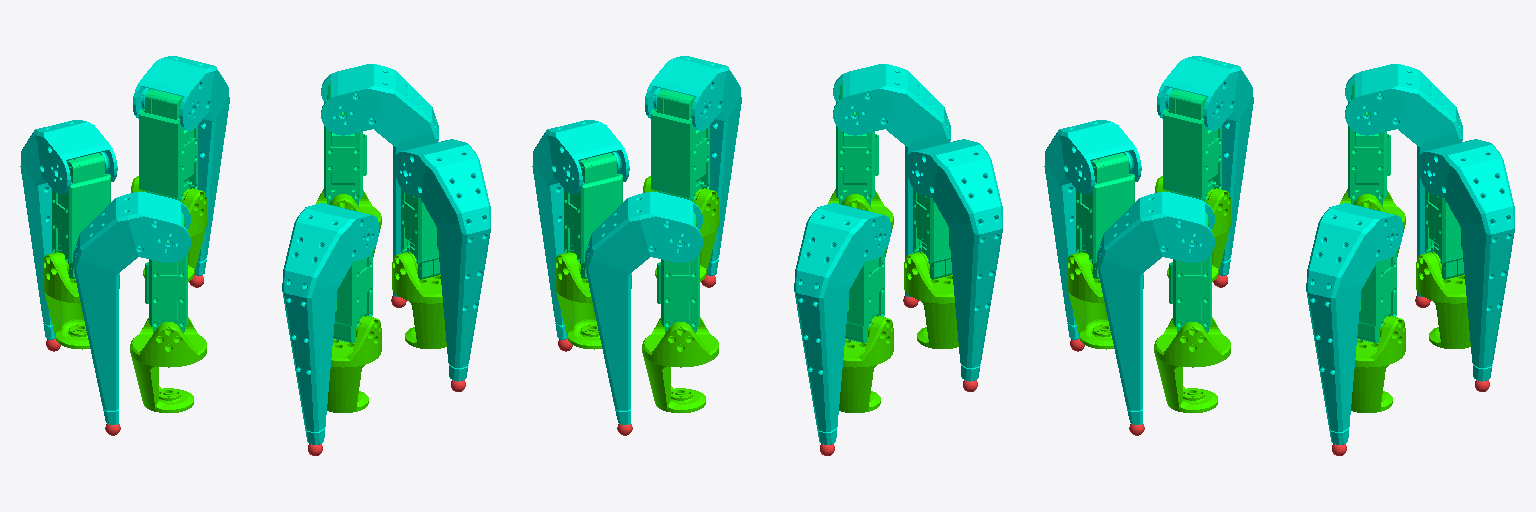
--- What the picture shows (computed from the rendered views, not written in the file) ---
3 views of the same robot in one strip: view 1: azimuth 30°, elevation 25°; view 2: azimuth 150°, elevation 25°; view 3: azimuth 270°, elevation 25° (orthographic).
Robot: hexapod — 25 links, 24 joints (18 revolute, 6 fixed); root link body; default pose: every joint at zero.
Links seen in each view (by area): view 1: t1, t2, t3, t6, t5, t4, f5, c3, f4, c1, c2, c4 (+6 smaller); view 2: t3, t4, t5, t2, t1, t6, f1, c5, f6, c3, c4, c6 (+6 smaller); view 3: t6, t5, t1, t4, t3, t2, f3, c1, f2, c5, c6, c2 (+6 smaller).
Link boxes in pixels (x1,y1,x2,y2): t1: (394,139,490,381); t2: (282,203,378,444); t3: (73,192,190,424); t6: (321,64,438,296); t5: (133,56,229,275); t4: (20,120,117,339); f5: (139,89,197,201); c3: (130,317,206,412); f4: (52,153,110,279); c1: (392,252,446,348); c2: (327,316,381,412); c4: (43,252,119,349); t3: (906,139,1002,381); t4: (794,203,890,444); t5: (585,192,702,424); t2: (833,64,950,296); t1: (645,56,741,275); t6: (532,120,629,339); f1: (651,89,709,201); c5: (642,317,718,412); f6: (564,153,622,279); c3: (904,252,958,348); c4: (839,316,893,412); c6: (555,252,631,349); t6: (1306,203,1402,444); t5: (1418,139,1514,381); t1: (1097,192,1214,424); t4: (1345,64,1462,296); t3: (1157,56,1253,275); t2: (1044,120,1141,339); f3: (1163,89,1221,201); c1: (1154,317,1230,412); f2: (1076,153,1134,279); c5: (1416,252,1470,348); c6: (1351,316,1405,412); c2: (1067,252,1143,349).
Bounding box of the posed robot: 0.376 × 0.3678 × 0.2005 m (x, y, z).
18 mesh visuals loaded from 19 distinct referenced files (18 binary STL); not drawn: 1 (reference not matched to a file when rendering).

The robot description file, URDF, robot "hexapod":
<?xml version="1.0"?>
<robot
  name="hexapod">
  <link
    name="body">
    <inertial>
      <origin
        xyz="-0.000964757398601047 -0.000474507891316197 0.0250917541538913"
        rpy="0 0 0" />
      <mass
        value="0.837264376559784" />
      <inertia
        ixx="0.000684705045228122"
        ixy="2.41203148829684E-06"
        ixz="1.37182293143103E-06"
        iyy="0.000373213482608926"
        iyz="2.86965126573547E-08"
        izz="0.000953816417305708" />
    </inertial>
    <visual>
      <origin
        xyz="0 0 0"
        rpy="0 0 0" />
      <geometry>
        <mesh
          filename="../meshes/body.STL" />
      </geometry>
      <material
        name="">
        <color
          rgba="1 0.984 0 1" />
      </material>
    </visual>
    <collision>
      <origin
        xyz="0 0 0"
        rpy="0 0 0" />
      <geometry>
        <mesh
          filename="../meshes/body_scad.stl" scale="0.001 0.001 0.001"/>
      </geometry>
    </collision>
  </link>
  <link
    name="c1">
    <inertial>
      <origin
        xyz="0.00013691 -0.0055867 0.03976"
        rpy="0 0 0" />
      <mass
        value="0.060858" />
      <inertia
        ixx="3.2009E-05"
        ixy="-5.5108E-08"
        ixz="1.3355E-08"
        iyy="3.647E-05"
        iyz="-3.6867E-06"
        izz="2.5652E-05" />
    </inertial>
    <visual>
      <origin
        xyz="0 0 0"
        rpy="0 0 0" />
      <geometry>
        <mesh
          filename="../meshes/c1.STL" />
      </geometry>
      <material
        name="">
        <color
          rgba="0.3 1 0 1" />
      </material>
    </visual>
    <collision>
      <origin
        xyz="0 0 0"
        rpy="0 0 0" />
      <geometry>
        <mesh
          filename="../meshes/c1_scad.stl" scale="0.001 0.001 0.001"/>
      </geometry>
    </collision>
  </link>
  <joint
    name="c1"
    type="revolute">
    <origin
      xyz="0.11804 -0.068148 -0.0036"
      rpy="0 0 0" />
    <parent
      link="body" />
    <child
      link="c1" />
    <axis
      xyz="0 0 1" />
    <limit
      lower="0"
      upper="2.0944"
      effort="2.9419"
      velocity="4.71" />
  </joint>
  <link
    name="f1">
    <inertial>
      <origin
        xyz="-0.039988 7.741E-05 -0.01669"
        rpy="0 0 0" />
      <mass
        value="0.11714" />
      <inertia
        ixx="1.3116E-05"
        ixy="2.371E-08"
        ixz="3.7548E-10"
        iyy="2.465E-05"
        iyz="-2.0838E-09"
        izz="2.7051E-05" />
    </inertial>
    <visual>
      <origin
        xyz="0 0 0"
        rpy="0 0 0" />
      <geometry>
        <mesh
          filename="../meshes/f1.STL" />
      </geometry>
      <material
        name="">
        <color
          rgba="0 1 0.58 1" />
      </material>
    </visual>
    <collision>
      <origin
        xyz="0 0 0"
        rpy="0 0 0" />
      <geometry>
        <mesh
          filename="../meshes/f1_scad.stl" scale="0.001 0.001 0.001"/>
      </geometry>
    </collision>
  </link>
  <joint
    name="f1"
    type="revolute">
    <origin
      xyz="0.0169 0 0.0679"
      rpy="0 1.5708 0" />
    <parent
      link="c1" />
    <child
      link="f1" />
    <axis
      xyz="0 0 1" />
    <limit
      lower="-0.7853"
      upper="1.5708"
      effort="2.9419"
      velocity="4.71" />
  </joint>
  <link
    name="t1">
    <inertial>
      <origin
        xyz="0.033566 0.041626 -0.022609"
        rpy="0 0 0" />
      <mass
        value="0.11714" />
      <inertia
        ixx="5.057E-05"
        ixy="-4.8612E-05"
        ixz="8.9984E-08"
        iyy="0.00026925"
        iyz="2.3327E-08"
        izz="0.0003066" />
    </inertial>
    <visual>
      <origin
        xyz="0 0 0"
        rpy="0 0 0" />
      <geometry>
        <mesh
          filename="../meshes/t1.STL" />
      </geometry>
      <material
        name="">
        <color
          rgba="0 1 0.9 1" />
      </material>
    </visual>
    <collision>
      <origin
        xyz="0 0 0"
        rpy="0 0 0" />
      <geometry>
        <mesh
          filename="../meshes/t1_scad.stl" scale="0.001 0.001 0.001"/>
      </geometry>
    </collision>
  </link>
  <joint
    name="t1"
    type="revolute">
    <origin
      xyz="-0.08 0 -0.0395"
      rpy="3.1416 0 0" />
    <parent
      link="f1" />
    <child
      link="t1" />
    <axis
      xyz="0 0 1" />
    <limit
      lower="0"
      upper="2.0944"
      effort="2.9419"
      velocity="4.71" />
  </joint>
  <link
    name="e1">
    <visual>
      <origin
        xyz="0.170 0.0435 -0.0225"
        rpy="0 0 0" />
      <geometry>
        <sphere radius="0.006"/>
      </geometry>
      <material
        name="">
        <color
          rgba="1 0.3 0.3 1" />
      </material>
    </visual>
    <collision>
      <origin
        xyz="0.170 0.0435 -0.0225"
        rpy="0 0 0" />
      <geometry>
        <sphere radius="0.006"/>
      </geometry>
      <material
        name="">
        <color
          rgba="1 0.3 0.3 1" />
      </material>
    </collision>
  </link>
  <joint
    name="e1"
    type="fixed">
    <origin
      xyz="0 0 0"
      rpy="0 0 0" />
    <parent
      link="t1" />
    <child
      link="e1" />
  </joint>
  <link
    name="c2">
    <inertial>
      <origin
        xyz="-0.0047697 -0.0029119 0.03976"
        rpy="0 0 0" />
      <mass
        value="0.060858" />
      <inertia
        ixx="3.5307E-05"
        ixy="1.9593E-06"
        ixz="-3.1861E-06"
        iyy="3.3172E-05"
        iyz="-1.8549E-06"
        izz="2.5652E-05" />
    </inertial>
    <visual>
      <origin
        xyz="0 0 0"
        rpy="0 0 0" />
      <geometry>
        <mesh
          filename="../meshes/c2.STL" />
      </geometry>
      <material
        name="">
        <color
          rgba="0.3 1 0 1" />
      </material>
    </visual>
    <collision>
      <origin
        xyz="0 0 0"
        rpy="0 0 0" />
      <geometry>
        <mesh
          filename="../meshes/c2_scad.stl" scale="0.001 0.001 0.001"/>
      </geometry>
    </collision>
  </link>
  <joint
    name="c2"
    type="revolute">
    <origin
      xyz="0 -0.1363 -0.0036"
      rpy="0 0 0" />
    <parent
      link="body" />
    <child
      link="c2" />
    <axis
      xyz="0 0 1" />
    <limit
      lower="0"
      upper="2.0944"
      effort="2.9419"
      velocity="4.71" />
  </joint>
  <link
    name="f2">
    <inertial>
      <origin
        xyz="7.741E-05 0.039988 -0.01669"
        rpy="0 0 0" />
      <mass
        value="0.11714" />
      <inertia
        ixx="2.465E-05"
        ixy="-2.371E-08"
        ixz="-2.0842E-09"
        iyy="1.3116E-05"
        iyz="-3.7547E-10"
        izz="2.7051E-05" />
    </inertial>
    <visual>
      <origin
        xyz="0 0 0"
        rpy="0 0 0" />
      <geometry>
        <mesh
          filename="../meshes/f2.STL" />
      </geometry>
      <material
        name="">
        <color
          rgba="0 1 0.58 1" />
      </material>
    </visual>
    <collision>
      <origin
        xyz="0 0 0"
        rpy="0 0 0" />
      <geometry>
        <mesh
          filename="../meshes/f2_scad.stl" scale="0.001 0.001 0.001"/>
      </geometry>
    </collision>
  </link>
  <joint
    name="f2"
    type="revolute">
    <origin
      xyz="0.00845 -0.014636 0.0679"
      rpy="1.5708 0 0.5236" />
    <parent
      link="c2" />
    <child
      link="f2" />
    <axis
      xyz="0 0 1" />
    <limit
      lower="-0.7853"
      upper="1.5708"
      effort="2.9419"
      velocity="4.71" />
  </joint>
  <link
    name="t2">
    <inertial>
      <origin
        xyz="-0.041626 0.033566 -0.022609"
        rpy="0 0 0" />
      <mass
        value="0.11714" />
      <inertia
        ixx="0.00026925"
        ixy="4.8613E-05"
        ixz="-2.326E-08"
        iyy="5.057E-05"
        iyz="8.9817E-08"
        izz="0.0003066" />
    </inertial>
    <visual>
      <origin
        xyz="0 0 0"
        rpy="0 0 0" />
      <geometry>
        <mesh
          filename="../meshes/t2.STL" />
      </geometry>
      <material
        name="">
        <color
          rgba="0 1 0.9 1" />
      </material>
    </visual>
    <collision>
      <origin
        xyz="0 0 0"
        rpy="0 0 0" />
      <geometry>
        <mesh
          filename="../meshes/t2_scad.stl" scale="0.001 0.001 0.001"/>
      </geometry>
    </collision>
  </link>
  <joint
    name="t2"
    type="revolute">
    <origin
      xyz="0 0.08 -0.0395"
      rpy="-3.1416 0 0" />
    <parent
      link="f2" />
    <child
      link="t2" />
    <axis
      xyz="0 0 1" />
    <limit
      lower="0"
      upper="2.0944"
      effort="2.9419"
      velocity="4.71" />
  </joint>
  <link
    name="e2">
    <visual>
      <origin
        xyz="-0.0435 0.170  -0.0225"
        rpy="0 0 0" />
      <geometry>
        <sphere radius="0.006"/>
      </geometry>
      <material
        name="">
        <color
          rgba="1 0.3 0.3 1" />
      </material>
    </visual>
    <collision>
      <origin
        xyz="-0.0435 0.170  -0.0225"
        rpy="0 0 0" />
      <geometry>
        <sphere radius="0.006"/>
      </geometry>
      <material
        name="">
        <color
          rgba="1 0.5 0.5 1" />
      </material>
    </collision>
  </link>
  <joint
    name="e2"
    type="fixed">
    <origin
      xyz="0 0 0"
      rpy="0 0 0" />
    <parent
      link="t2" />
    <child
      link="e2" />
  </joint>
  <link
    name="c3">
    <inertial>
      <origin
        xyz="-0.0049067 0.0026748 0.03976"
        rpy="0 0 0" />
      <mass
        value="0.060858" />
      <inertia
        ixx="3.5402E-05"
        ixy="-1.9042E-06"
        ixz="-3.1995E-06"
        iyy="3.3076E-05"
        iyz="1.8318E-06"
        izz="2.5652E-05" />
    </inertial>
    <visual>
      <origin
        xyz="0 0 0"
        rpy="0 0 0" />
      <geometry>
        <mesh
          filename="../meshes/c3.STL" />
      </geometry>
      <material
        name="">
        <color
          rgba="0.3 1 0 1" />
      </material>
    </visual>
    <collision>
      <origin
        xyz="0 0 0"
        rpy="0 0 0" />
      <geometry>
        <mesh
          filename="../meshes/c3_scad.stl" scale="0.001 0.001 0.001"/>
      </geometry>
    </collision>
  </link>
  <joint
    name="c3"
    type="revolute">
    <origin
      xyz="-0.11804 -0.068148 -0.0036"
      rpy="0 0 0" />
    <parent
      link="body" />
    <child
      link="c3" />
    <axis
      xyz="0 0 1" />
    <limit
      lower="0"
      upper="2.0944"
      effort="2.9419"
      velocity="4.71" />
  </joint>
  <link
    name="f3">
    <inertial>
      <origin
        xyz="7.7409E-05 0.039988 -0.01669"
        rpy="0 0 0" />
      <mass
        value="0.11714" />
      <inertia
        ixx="2.465E-05"
        ixy="-2.371E-08"
        ixz="-2.084E-09"
        iyy="1.3116E-05"
        iyz="-3.7547E-10"
        izz="2.7051E-05" />
    </inertial>
    <visual>
      <origin
        xyz="0 0 0"
        rpy="0 0 0" />
      <geometry>
        <mesh
          filename="../meshes/f3.STL" />
      </geometry>
      <material
        name="">
        <color
          rgba="0 1 0.58 1" />
      </material>
    </visual>
    <collision>
      <origin
        xyz="0 0 0"
        rpy="0 0 0" />
      <geometry>
        <mesh
          filename="../meshes/f3_scad.stl" scale="0.001 0.001 0.001"/>
      </geometry>
    </collision>
  </link>
  <joint
    name="f3"
    type="revolute">
    <origin
      xyz="-0.00845 -0.014636 0.0679"
      rpy="1.5708 0 -0.5236" />
    <parent
      link="c3" />
    <child
      link="f3" />
    <axis
      xyz="0 0 1" />
    <limit
      lower="-0.7853"
      upper="1.5708"
      effort="2.9419"
      velocity="4.71" />
  </joint>
  <link
    name="t3">
    <inertial>
      <origin
        xyz="-0.041626 0.033566 -0.022609"
        rpy="0 0 0" />
      <mass
        value="0.11714" />
      <inertia
        ixx="0.00026925"
        ixy="4.8613E-05"
        ixz="-2.3256E-08"
        iyy="5.057E-05"
        iyz="8.9815E-08"
        izz="0.0003066" />
    </inertial>
    <visual>
      <origin
        xyz="0 0 0"
        rpy="0 0 0" />
      <geometry>
        <mesh
          filename="../meshes/t3.STL" />
      </geometry>
      <material
        name="">
        <color
          rgba="0 1 0.9 1" />
      </material>
    </visual>
    <collision>
      <origin
        xyz="0 0 0"
        rpy="0 0 0" />
      <geometry>
        <mesh
          filename="../meshes/t3_scad.stl" scale="0.001 0.001 0.001"/>
      </geometry>
    </collision>
  </link>
  <joint
    name="t3"
    type="revolute">
    <origin
      xyz="0 0.08 -0.0395"
      rpy="-3.1416 0 0" />
    <parent
      link="f3" />
    <child
      link="t3" />
    <axis
      xyz="0 0 1" />
    <limit
      lower="0"
      upper="2.0944"
      effort="2.9419"
      velocity="4.71" />
  </joint>
  <link
    name="e3">
    <visual>
      <origin
        xyz="-0.0435 0.170  -0.0225"
        rpy="0 0 0" />
      <geometry>
        <sphere radius="0.006"/>
      </geometry>
      <material
        name="">
        <color
          rgba="1 0.3 0.3 1" />
      </material>
    </visual>
    <collision>
      <origin
        xyz="-0.0435 0.170  -0.0225"
        rpy="0 0 0" />
      <geometry>
        <sphere radius="0.006"/>
      </geometry>
      <material
        name="">
        <color
          rgba="1 0.5 0.5 1" />
      </material>
    </collision>
  </link>
  <joint
    name="e3"
    type="fixed">
    <origin
      xyz="0 0 0"
      rpy="0 0 0" />
    <parent
      link="t3" />
    <child
      link="e3" />
  </joint>
  <link
    name="c4">
    <inertial>
      <origin
        xyz="-0.00013691 0.0055867 0.03976"
        rpy="0 0 0" />
      <mass
        value="0.060858" />
      <inertia
        ixx="3.2009E-05"
        ixy="-5.5108E-08"
        ixz="-1.3355E-08"
        iyy="3.647E-05"
        iyz="3.6867E-06"
        izz="2.5652E-05" />
    </inertial>
    <visual>
      <origin
        xyz="0 0 0"
        rpy="0 0 0" />
      <geometry>
        <mesh
          filename="../meshes/c4.STL" />
      </geometry>
      <material
        name="">
        <color
          rgba="0.3 1 0 1" />
      </material>
    </visual>
    <collision>
      <origin
        xyz="0 0 0"
        rpy="0 0 0" />
      <geometry>
        <mesh
          filename="../meshes/c4_scad.stl" scale="0.001 0.001 0.001"/>
      </geometry>
    </collision>
  </link>
  <joint
    name="c4"
    type="revolute">
    <origin
      xyz="-0.11804 0.068148 -0.0036"
      rpy="0 0 0" />
    <parent
      link="body" />
    <child
      link="c4" />
    <axis
      xyz="0 0 1" />
    <limit
      lower="0"
      upper="2.0944"
      effort="2.9419"
      velocity="4.71" />
  </joint>
  <link
    name="f4">
    <inertial>
      <origin
        xyz="0.039988 -7.741E-05 -0.01669"
        rpy="0 0 0" />
      <mass
        value="0.11714" />
      <inertia
        ixx="1.3116E-05"
        ixy="2.371E-08"
        ixz="-3.7548E-10"
        iyy="2.465E-05"
        iyz="2.0838E-09"
        izz="2.7051E-05" />
    </inertial>
    <visual>
      <origin
        xyz="0 0 0"
        rpy="0 0 0" />
      <geometry>
        <mesh
          filename="../meshes/f4.STL" />
      </geometry>
      <material
        name="">
        <color
          rgba="0 1 0.58 1" />
      </material>
    </visual>
    <collision>
      <origin
        xyz="0 0 0"
        rpy="0 0 0" />
      <geometry>
        <mesh
          filename="../meshes/f4_scad.stl" scale="0.001 0.001 0.001"/>
      </geometry>
    </collision>
  </link>
  <joint
    name="f4"
    type="revolute">
    <origin
      xyz="-0.0169 0 0.0679"
      rpy="0 -1.5708 0" />
    <parent
      link="c4" />
    <child
      link="f4" />
    <axis
      xyz="0 0 1" />
    <limit
      lower="-0.7853"
      upper="1.5708"
      effort="2.9419"
      velocity="4.71" />
  </joint>
  <link
    name="t4">
    <inertial>
      <origin
        xyz="0.033566 0.041626 -0.022609"
        rpy="0 0 0" />
      <mass
        value="0.11714" />
      <inertia
        ixx="5.057E-05"
        ixy="-4.8612E-05"
        ixz="8.9984E-08"
        iyy="0.00026925"
        iyz="2.3327E-08"
        izz="0.0003066" />
    </inertial>
    <visual>
      <origin
        xyz="0 0 0"
        rpy="0 0 0" />
      <geometry>
        <mesh
          filename="../meshes/t4.STL" />
      </geometry>
      <material
        name="">
        <color
          rgba="0 1 0.9 1" />
      </material>
    </visual>
    <collision>
      <origin
        xyz="0 0 0"
        rpy="0 0 0" />
      <geometry>
        <mesh
          filename="../meshes/t4_scad.stl" scale="0.001 0.001 0.001"/>
      </geometry>
    </collision>
  </link>
  <joint
    name="t4"
    type="revolute">
    <origin
      xyz="0.08 0 -0.0395"
      rpy="3.1416 0 -3.1416" />
    <parent
      link="f4" />
    <child
      link="t4" />
    <axis
      xyz="0 0 1" />
    <limit
      lower="0"
      upper="2.0944"
      effort="2.9419"
      velocity="4.71" />
  </joint>
  <link
    name="e4">
    <visual>
      <origin
        xyz="0.170 0.0435 -0.0225"
        rpy="0 0 0" />
      <geometry>
        <sphere radius="0.006"/>
      </geometry>
      <material
        name="">
        <color
          rgba="1 0.3 0.3 1" />
      </material>
    </visual>
    <collision>
      <origin
        xyz="0.170 0.0435 -0.0225"
        rpy="0 0 0" />
      <geometry>
        <sphere radius="0.006"/>
      </geometry>
      <material
        name="">
        <color
          rgba="1 0.5 0.5 1" />
      </material>
    </collision>
  </link>
  <joint
    name="e4"
    type="fixed">
    <origin
      xyz="0 0 0"
      rpy="0 0 0" />
    <parent
      link="t4" />
    <child
      link="e4" />
  </joint>
  <link
    name="c5">
    <inertial>
      <origin
        xyz="0.0047697 0.0029119 0.03976"
        rpy="0 0 0" />
      <mass
        value="0.060858" />
      <inertia
        ixx="3.5307E-05"
        ixy="1.9593E-06"
        ixz="3.1861E-06"
        iyy="3.3172E-05"
        iyz="1.8549E-06"
        izz="2.5652E-05" />
    </inertial>
    <visual>
      <origin
        xyz="0 0 0"
        rpy="0 0 0" />
      <geometry>
        <mesh
          filename="../meshes/c5.STL" />
      </geometry>
      <material
        name="">
        <color
          rgba="0.3 1 0 1" />
      </material>
    </visual>
    <collision>
      <origin
        xyz="0 0 0"
        rpy="0 0 0" />
      <geometry>
        <mesh
          filename="../meshes/c5_scad.stl" scale="0.001 0.001 0.001"/>
      </geometry>
    </collision>
  </link>
  <joint
    name="c5"
    type="revolute">
    <origin
      xyz="0 0.1363 -0.0036"
      rpy="0 0 0" />
    <parent
      link="body" />
    <child
      link="c5" />
    <axis
      xyz="0 0 1" />
    <limit
      lower="0"
      upper="2.0944"
      effort="2.9419"
      velocity="4.71" />
  </joint>
  <link
    name="f5">
    <inertial>
      <origin
        xyz="-7.741E-05 -0.039988 -0.01669"
        rpy="0 0 0" />
      <mass
        value="0.11714" />
      <inertia
        ixx="2.465E-05"
        ixy="-2.371E-08"
        ixz="2.0842E-09"
        iyy="1.3116E-05"
        iyz="3.7547E-10"
        izz="2.7051E-05" />
    </inertial>
    <visual>
      <origin
        xyz="0 0 0"
        rpy="0 0 0" />
      <geometry>
        <mesh
          filename="../meshes/f5.STL" />
      </geometry>
      <material
        name="">
        <color
          rgba="0 1 0.58 1" />
      </material>
    </visual>
    <collision>
      <origin
        xyz="0 0 0"
        rpy="0 0 0" />
      <geometry>
        <mesh
          filename="../meshes/f5_scad.stl" scale="0.001 0.001 0.001"/>
      </geometry>
    </collision>
  </link>
  <joint
    name="f5"
    type="revolute">
    <origin
      xyz="-0.00845 0.014636 0.0679"
      rpy="-1.5708 0 0.5236" />
    <parent
      link="c5" />
    <child
      link="f5" />
    <axis
      xyz="0 0 1" />
    <limit
      lower="-0.7853"
      upper="1.5708"
      effort="2.9419"
      velocity="4.71" />
  </joint>
  <link
    name="t5">
    <inertial>
      <origin
        xyz="0.041626 -0.033566 -0.022609"
        rpy="0 0 0" />
      <mass
        value="0.11714" />
      <inertia
        ixx="0.00026925"
        ixy="4.8613E-05"
        ixz="2.326E-08"
        iyy="5.057E-05"
        iyz="-8.9817E-08"
        izz="0.0003066" />
    </inertial>
    <visual>
      <origin
        xyz="0 0 0"
        rpy="0 0 0" />
      <geometry>
        <mesh
          filename="../meshes/t5.STL" />
      </geometry>
      <material
        name="">
        <color
          rgba="0 1 0.9 1" />
      </material>
    </visual>
    <collision>
      <origin
        xyz="0 0 0"
        rpy="0 0 0" />
      <geometry>
        <mesh
          filename="../meshes/t5_scad.stl" scale="0.001 0.001 0.001"/>
      </geometry>
    </collision>
  </link>
  <joint
    name="t5"
    type="revolute">
    <origin
      xyz="0 -0.08 -0.0395"
      rpy="3.1416 0 0" />
    <parent
      link="f5" />
    <child
      link="t5" />
    <axis
      xyz="0 0 1" />
    <limit
      lower="0"
      upper="2.0944"
      effort="2.9419"
      velocity="4.71" />
  </joint>
  <link
    name="e5">
    <visual>
      <origin
        xyz="0.0435 -0.170  -0.0225"
        rpy="0 0 0" />
      <geometry>
        <sphere radius="0.006"/>
      </geometry>
      <material
        name="">
        <color
          rgba="1 0.3 0.3 1" />
      </material>
    </visual>
    <collision>
      <origin
        xyz="0.0435 -0.170  -0.0225"
        rpy="0 0 0" />
      <geometry>
        <sphere radius="0.006"/>
      </geometry>
      <material
        name="">
        <color
          rgba="1 0.5 0.5 1" />
      </material>
    </collision>
  </link>
  <joint
    name="e5"
    type="fixed">
    <origin
      xyz="0 0 0"
      rpy="0 0 0" />
    <parent
      link="t5" />
    <child
      link="e5" />
  </joint>
  <link
    name="c6">
    <inertial>
      <origin
        xyz="-0.00096476 -0.00047451 0.025092"
        rpy="0 0 0" />
      <mass
        value="0.060858" />
      <inertia
        ixx="3.5402E-05"
        ixy="-1.9042E-06"
        ixz="3.1995E-06"
        iyy="3.3076E-05"
        iyz="-1.8318E-06"
        izz="2.5652E-05" />
    </inertial>
    <visual>
      <origin
        xyz="0 0 0"
        rpy="0 0 0" />
      <geometry>
        <mesh
          filename="../meshes/c6.STL" />
      </geometry>
      <material
        name="">
        <color
          rgba="0.3 1 0 1" />
      </material>
    </visual>
    <collision>
      <origin
        xyz="0 0 0"
        rpy="0 0 0" />
      <geometry>
        <mesh
          filename="../meshes/c6_scad.stl" scale="0.001 0.001 0.001"/>
      </geometry>
    </collision>
  </link>
  <joint
    name="c6"
    type="revolute">
    <origin
      xyz="0.11804 0.068148 -0.0036"
      rpy="0 0 0" />
    <parent
      link="body" />
    <child
      link="c6" />
    <axis
      xyz="0 0 1" />
    <limit
      lower="0"
      upper="2.0944"
      effort="2.9419"
      velocity="4.71" />
  </joint>
  <link
    name="f6">
    <inertial>
      <origin
        xyz="-7.7409E-05 -0.039988 -0.01669"
        rpy="0 0 0" />
      <mass
        value="0.11714" />
      <inertia
        ixx="2.465E-05"
        ixy="-2.371E-08"
        ixz="2.084E-09"
        iyy="1.3116E-05"
        iyz="3.7547E-10"
        izz="2.7051E-05" />
    </inertial>
    <visual>
      <origin
        xyz="0 0 0"
        rpy="0 0 0" />
      <geometry>
        <mesh
          filename="../meshes/f6.STL" />
      </geometry>
      <material
        name="">
        <color
          rgba="0 1 0.58 1" />
      </material>
    </visual>
    <collision>
      <origin
        xyz="0 0 0"
        rpy="0 0 0" />
      <geometry>
        <mesh
          filename="../meshes/f6_scad.stl" scale="0.001 0.001 0.001"/>
      </geometry>
    </collision>
  </link>
  <joint
    name="f6"
    type="revolute">
    <origin
      xyz="0.00845 0.014636 0.0679"
      rpy="-1.5708 0 -0.5236" />
    <parent
      link="c6" />
    <child
      link="f6" />
    <axis
      xyz="0 0 1" />
    <limit
      lower="-0.7853"
      upper="1.5708"
      effort="2.9419"
      velocity="4.71" />
  </joint>
  <link
    name="t6">
    <inertial>
      <origin
        xyz="0.041626 -0.033566 -0.022609"
        rpy="0 0 0" />
      <mass
        value="0.11714" />
      <inertia
        ixx="0.00026925"
        ixy="4.8613E-05"
        ixz="2.3256E-08"
        iyy="5.057E-05"
        iyz="-8.9815E-08"
        izz="0.0003066" />
    </inertial>
    <visual>
      <origin
        xyz="0 0 0"
        rpy="0 0 0" />
      <geometry>
        <mesh
          filename="../meshes/t6.STL" />
      </geometry>
      <material
        name="">
        <color
          rgba="0 1 0.9 1" />
      </material>
    </visual>
    <collision>
      <origin
        xyz="0 0 0"
        rpy="0 0 0" />
      <geometry>
        <mesh
          filename="../meshes/t6_scad.stl" scale="0.001 0.001 0.001"/>
      </geometry>
    </collision>
  </link>
  <joint
    name="t6"
    type="revolute">
    <origin
      xyz="0 -0.08 -0.0395"
      rpy="3.1416 0 0" />
    <parent
      link="f6" />
    <child
      link="t6" />
    <axis
      xyz="0 0 1" />
    <limit
      lower="0"
      upper="2.0944"
      effort="2.9419"
      velocity="4.71" />
  </joint>
  <link
    name="e6">
    <visual>
      <origin
        xyz="0.0435 -0.170  -0.0225"
        rpy="0 0 0" />
      <geometry>
        <sphere radius="0.006"/>
      </geometry>
      <material
        name="">
        <color
          rgba="1 0.3 0.3 1" />
      </material>
    </visual>
    <collision>
      <origin
        xyz="0.0435 -0.170  -0.0225"
        rpy="0 0 0" />
      <geometry>
        <sphere radius="0.006"/>
      </geometry>
      <material
        name="">
        <color
          rgba="1 0.5 0.5 1" />
      </material>
    </collision>
  </link>
  <joint
    name="e6"
    type="fixed">
    <origin
      xyz="0 0 0"
      rpy="0 0 0" />
    <parent
      link="t6" />
    <child
      link="e6" />
  </joint>
</robot>
